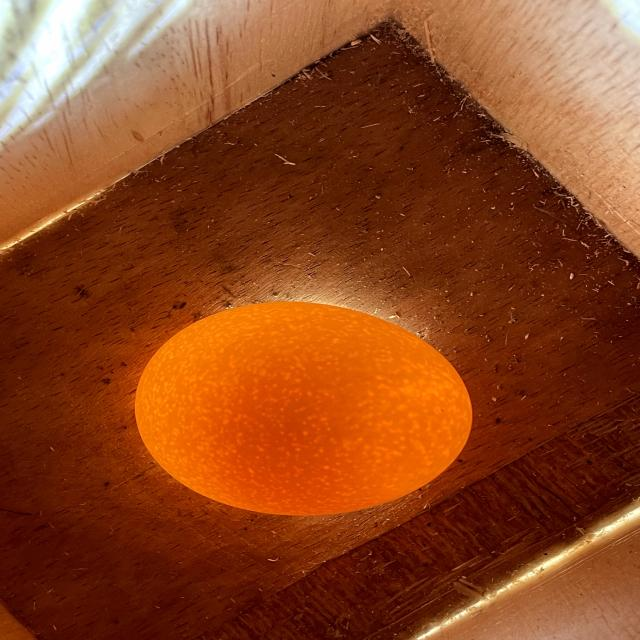infertile: (135, 301, 472, 515)
